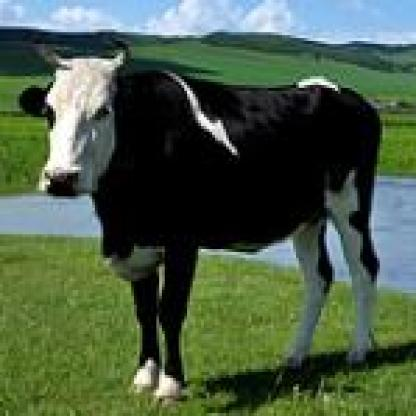cow: (17, 34, 382, 412)
